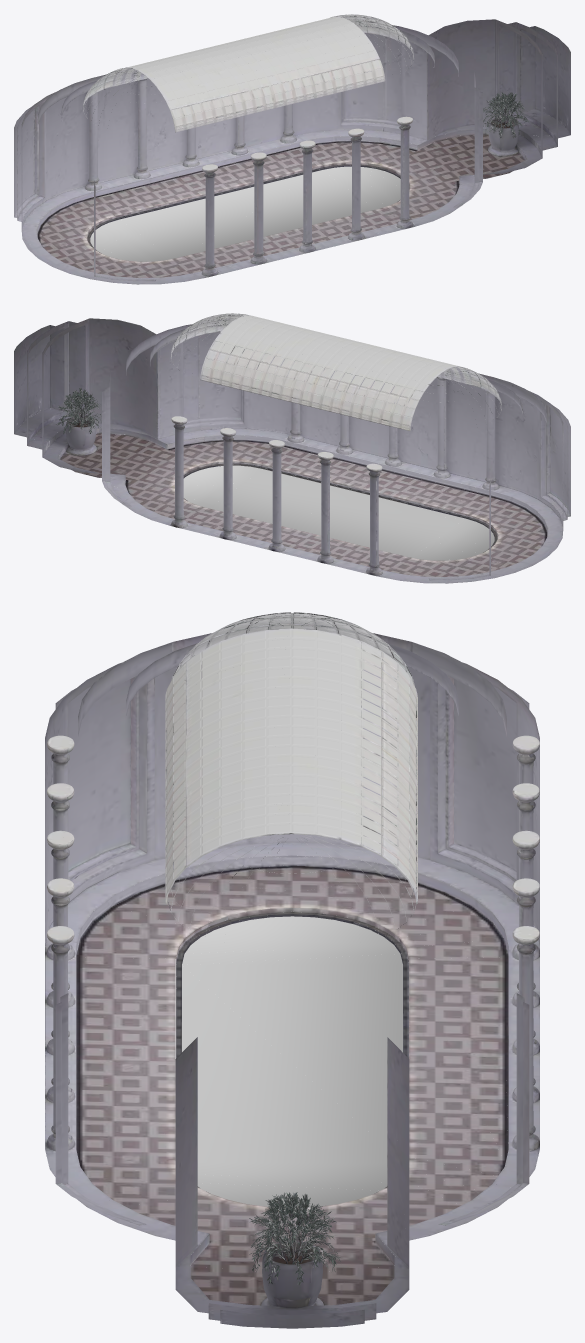
File: indoor-pool.glb
The picture shows the model from 3 angles, top to bottom: view 1: azimuth 30°, elevation 25°; view 2: azimuth 150°, elevation 25°; view 3: azimuth 270°, elevation 25°; orthographic projection. The views are drawn at different scales.
Visible parts, largest first — view 1: rest -1 -3, rest 3 -2, floor 0 -1, floor -1 -2, rest -2 -3, rest 2 -2, rest 4 -2, rest 2 -3, rest -1 -1, rest 0 -1, rest -3 -3, floor -1 -3 (+43 smaller); view 2: rest 3 -1, floor 0 -1, rest -1 0, rest 0 0, rest 2 -1, rest -2 0, floor -1 -2, rest -1 -2, rest 0 -2, rest -3 0, rest 4 -1, rest 2 0 (+43 smaller); view 3: floor 0 -1, floor -1 -2, rest -3 -3, rest -3 -1, floor -1 -3, rest -3 -2, floor -1 -1, floor -3 -2, floor 0 -2, floor -3 -1, rest 3 -2, floor -2 -1 (+45 smaller).
Part boxes in pixels (left/top/right/bottom): rest -1 -3: left=83, top=75, right=289, bottom=197; rest 3 -2: left=428, top=19, right=541, bottom=155; floor 0 -1: left=180, top=170, right=398, bottom=264; floor -1 -2: left=118, top=170, right=320, bottom=258; rest -2 -3: left=47, top=78, right=101, bottom=209; rest 2 -2: left=369, top=21, right=452, bottom=178; rest 4 -2: left=516, top=22, right=567, bottom=138; rest 2 -3: left=336, top=33, right=401, bottom=142; rest -1 -1: left=181, top=53, right=282, bottom=124; rest 0 -1: left=254, top=35, right=354, bottom=107; rest -3 -3: left=14, top=90, right=59, bottom=227; floor -1 -3: left=83, top=139, right=297, bottom=215; rest 3 -1: left=55, top=318, right=157, bottom=447; floor 0 -1: left=209, top=447, right=491, bottom=518; rest -1 0: left=291, top=373, right=501, bottom=496; rest 0 0: left=287, top=404, right=501, bottom=490; rest 2 -1: left=140, top=319, right=223, bottom=472; rest -2 0: left=482, top=377, right=537, bottom=508; floor -1 -2: left=216, top=510, right=464, bottom=557; rest -1 -2: left=302, top=352, right=403, bottom=423; rest 0 -2: left=231, top=334, right=330, bottom=405; rest -3 0: left=525, top=389, right=568, bottom=517; rest 4 -1: left=27, top=321, right=68, bottom=426; rest 2 0: left=198, top=332, right=248, bottom=440; floor 0 -1: left=81, top=957, right=387, bottom=1162; floor -1 -2: left=182, top=963, right=408, bottom=1148; rest -3 -3: left=430, top=653, right=529, bottom=921; rest -3 -1: left=104, top=616, right=290, bottom=923; floor -1 -3: left=409, top=947, right=539, bottom=1158; rest -3 -2: left=244, top=614, right=445, bottom=923; floor -1 -1: left=82, top=957, right=181, bottom=1155; floor -3 -2: left=232, top=842, right=467, bottom=924; floor 0 -2: left=403, top=960, right=502, bottom=1158; floor -3 -1: left=87, top=844, right=292, bottom=929; rest 3 -2: left=274, top=1037, right=409, bottom=1320; floor -2 -1: left=82, top=907, right=393, bottom=964.
Bounding box in the file's own units: 21.7 × 6.69 × 8.94.
Materials: 2 (1 with a texture image).
